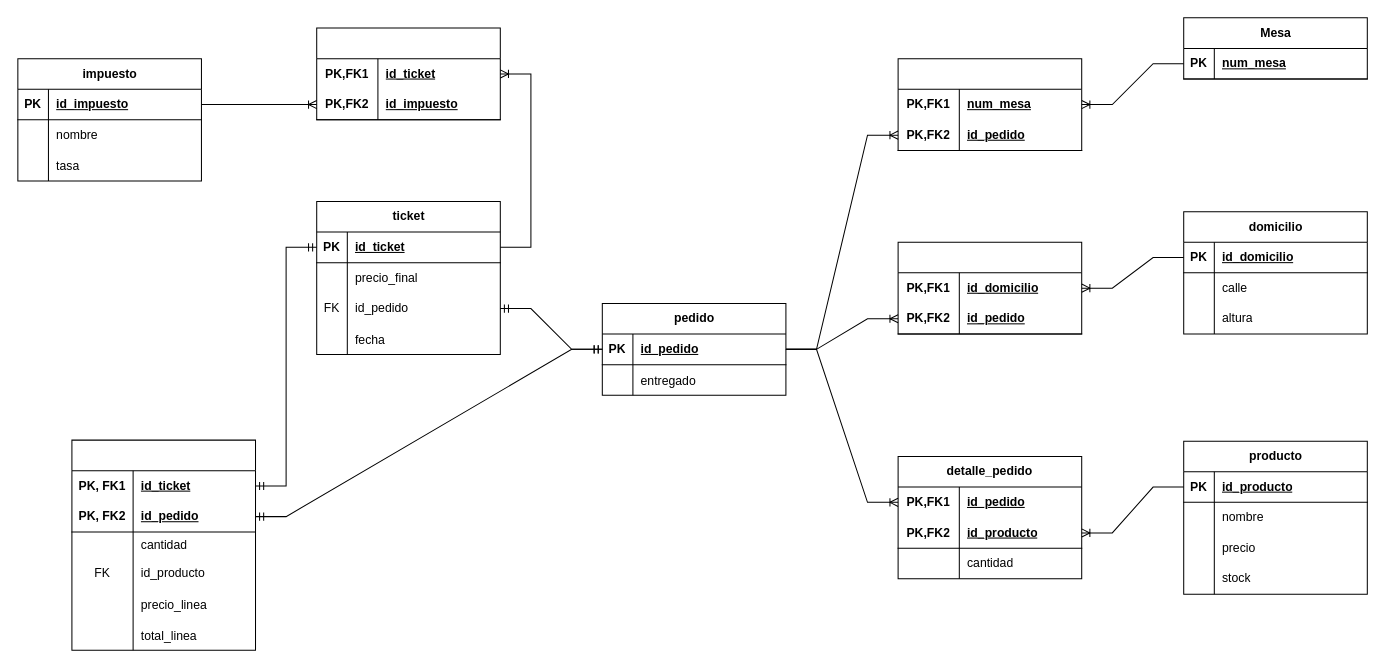
Some shapes in this 1385 by 668 pixel diagram are drawn without their labels. Each missing label, with the box of its shape:
desglose_ticket: (71, 439, 256, 650)
impuesto_en_ticket: (316, 27, 500, 120)
pedido_domicilio: (897, 241, 1082, 334)
pedido_mesa: (897, 58, 1082, 150)
